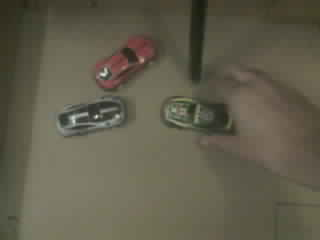Car: (94, 35, 155, 89), (56, 95, 127, 136), (160, 96, 232, 133)
